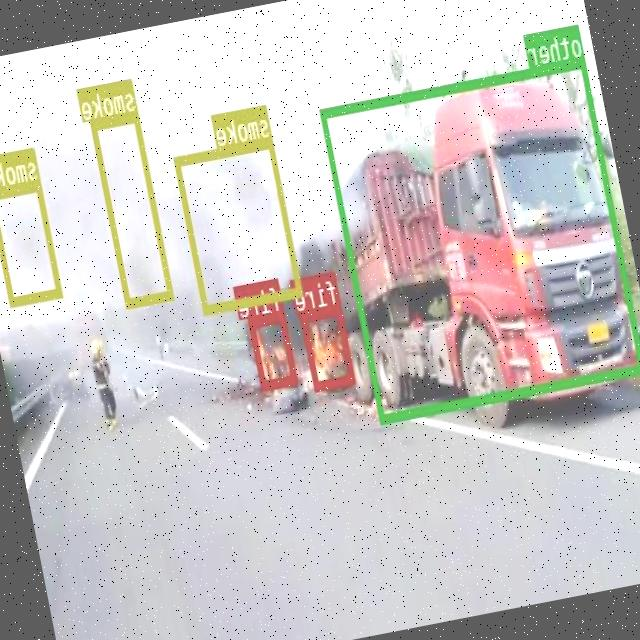fire: (302, 304, 356, 388), (250, 310, 298, 390)
smoke: (175, 136, 304, 312), (90, 110, 175, 306), (0, 180, 63, 305)
